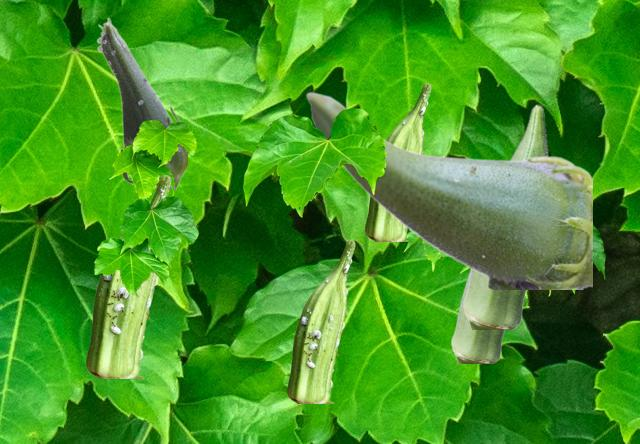okra: (305, 91, 591, 288), (463, 104, 547, 328), (86, 175, 170, 377), (96, 17, 186, 188), (287, 240, 354, 402), (365, 83, 430, 240), (451, 270, 505, 362)
